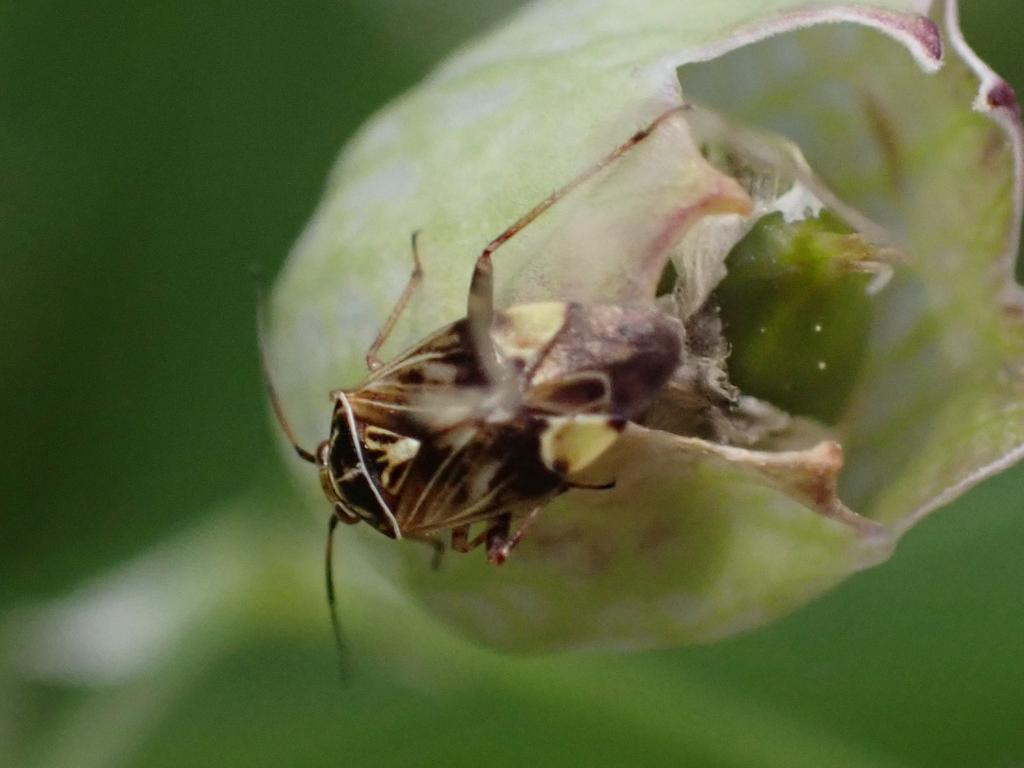plant_bugs: (147, 62, 871, 704)
